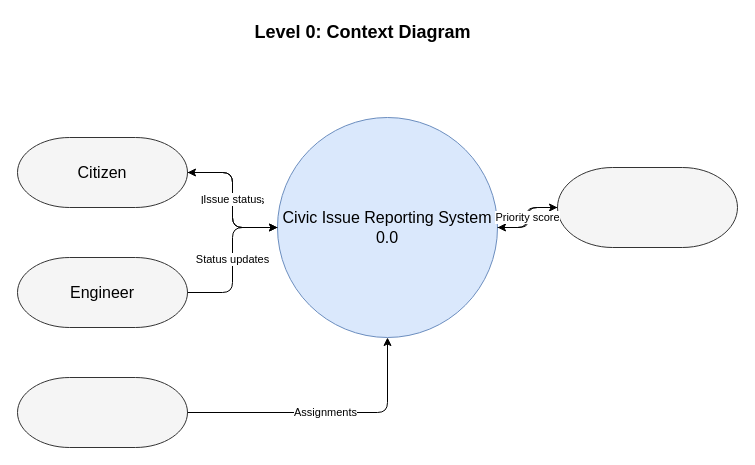
Some shapes in this 755 by 465 pixel diagram are drawn without their labels. Here are the shapes that lost their labels. From the top down, the box of each, then its label:
(556, 166, 738, 248): Gemini AI API
(16, 376, 188, 448): Supervisor
